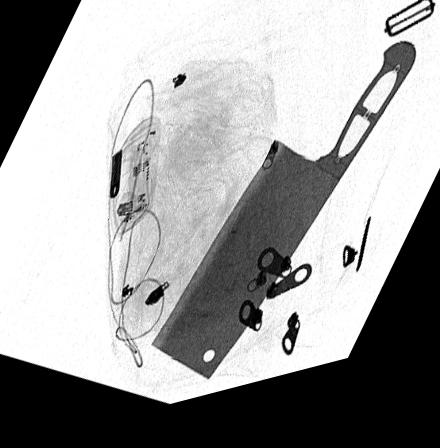Knife: (150, 60, 418, 390)
